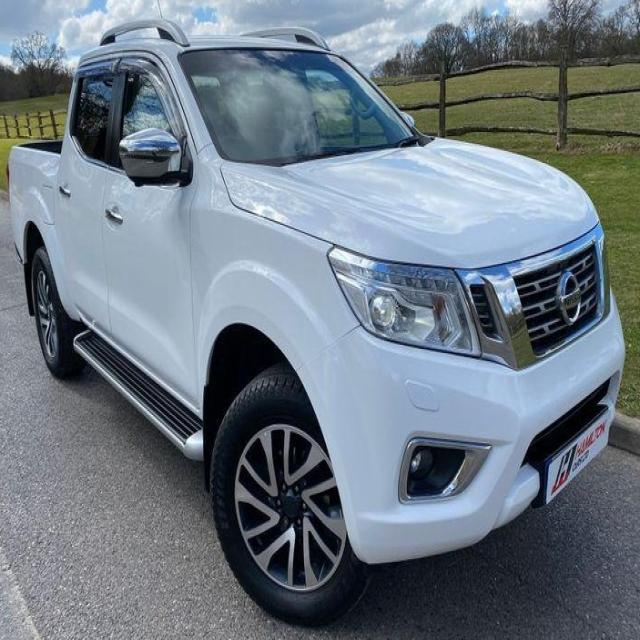CMT: (11, 24, 619, 606)
